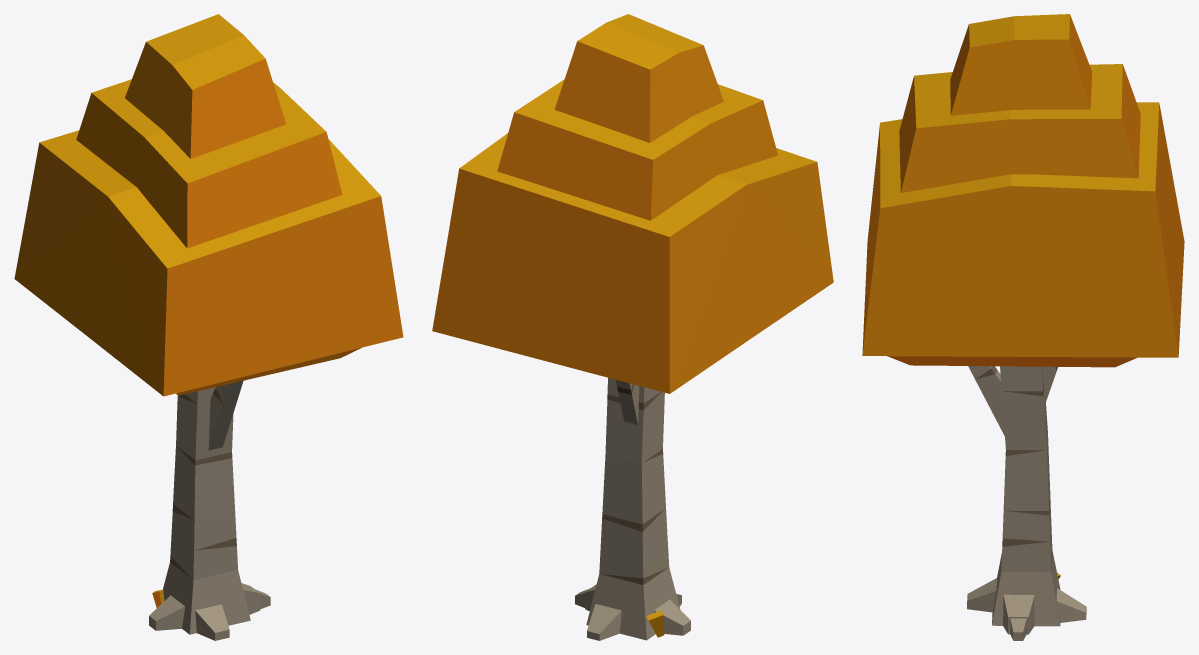
File: SF_Env_Tree_Fall_06.fbx
3 renders of one model, left to right at view 1: azimuth 30°, elevation 25°; view 2: azimuth 150°, elevation 25°; view 3: azimuth 270°, elevation 25°, orthographic. The views are drawn at different scales.
Visible parts, largest first — view 1: SF_Env_Tree_Fall_06; view 2: SF_Env_Tree_Fall_06; view 3: SF_Env_Tree_Fall_06.
Boxes of the visible parts, x1,y1,x2,y2 form: SF_Env_Tree_Fall_06: (14,14,403,640); SF_Env_Tree_Fall_06: (432,14,833,640); SF_Env_Tree_Fall_06: (862,14,1184,640).
Bounding box in the file's own units: 3.19 × 7.26 × 3.59.
